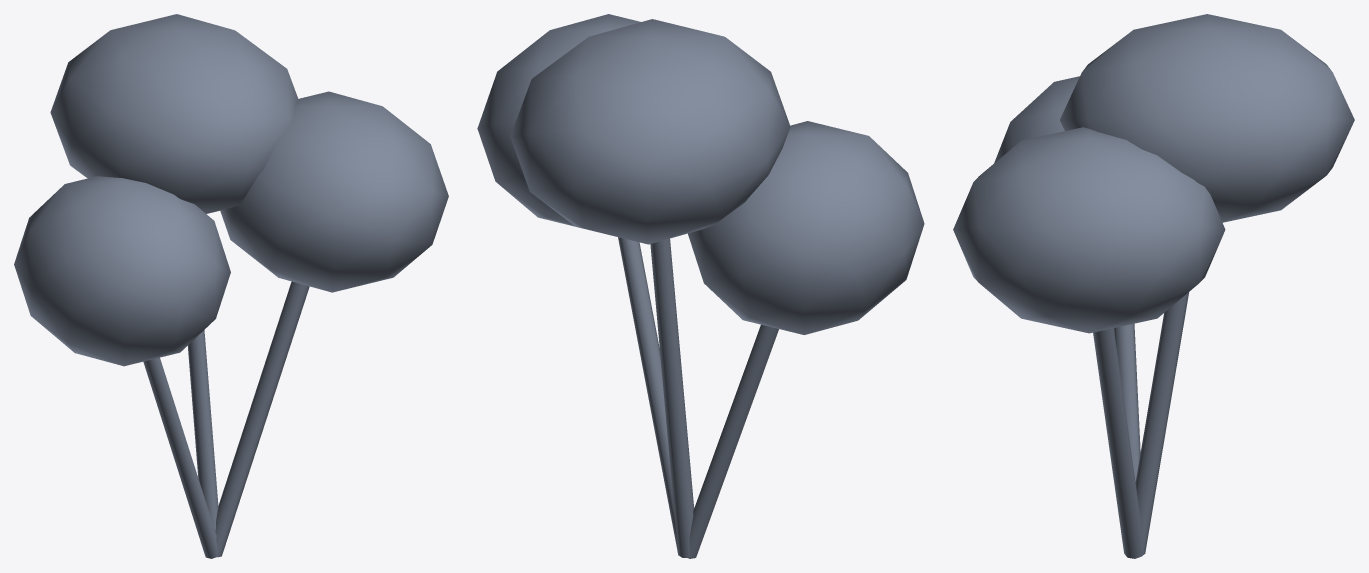
The model's file is garden-tree-multistem-lite.glb.
The picture shows the model from 3 angles, left to right: view 1: azimuth 30°, elevation 25°; view 2: azimuth 150°, elevation 25°; view 3: azimuth 270°, elevation 25°; orthographic projection. The views are drawn at different scales.
Visible parts, largest first — view 1: garden-tree-multistem; view 2: garden-tree-multistem; view 3: garden-tree-multistem.
Boxes of the visible parts, x1,y1,x2,y2 form: garden-tree-multistem: (14,14,448,558); garden-tree-multistem: (477,14,924,558); garden-tree-multistem: (953,14,1354,558).
Size of the model in its own units: 2.1 by 2.6 by 1.8.
